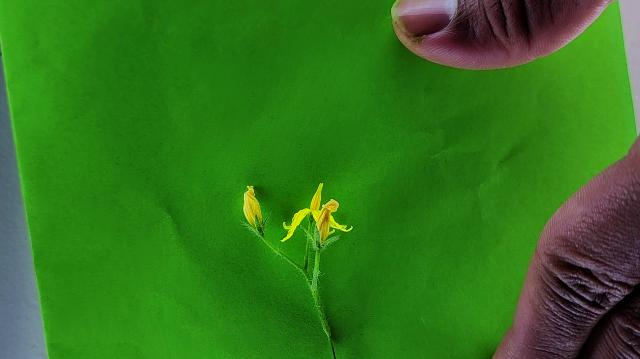Anthesis: (281, 183, 353, 246), (242, 184, 264, 233)
